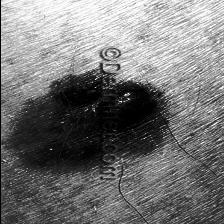Potentially Malignant Skin Tumors: (10, 72, 168, 172), (100, 84, 156, 130), (57, 80, 103, 106)
